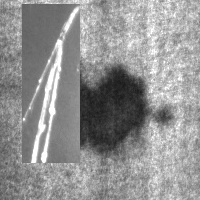patches: (40, 37, 145, 150)
scratches: (22, 4, 80, 163)
